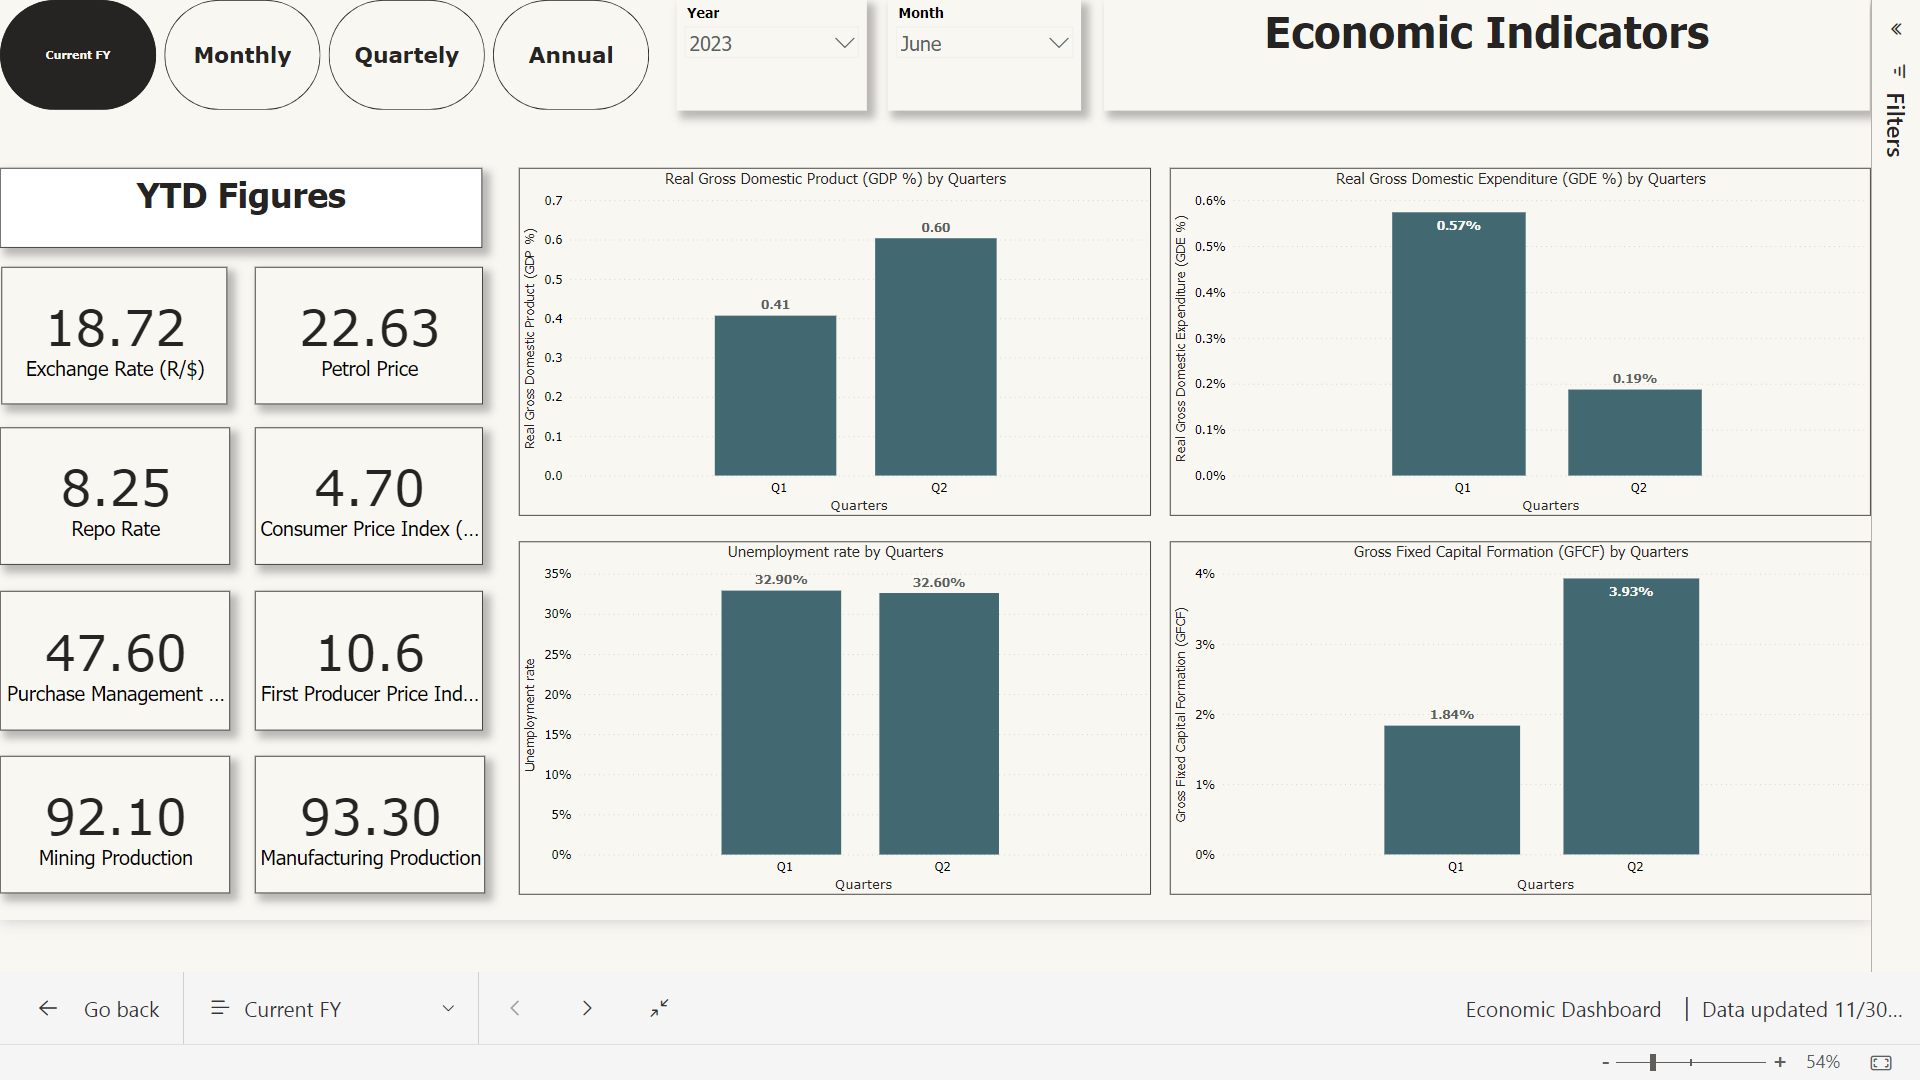

Layout of this report page (visuals, bound fields, positions):
{"tool":"powerbi","page":{"name":"Current FY","canvas":[2300,1131],"ordinal":0},"visuals":[{"type":"card","fields":{"Values":["Sum(Monthly.Exchange Rate (R/$))"]},"box":[2.7,329,277.3,168.6],"z":0},{"type":"card","fields":{"Values":["Sum(Monthly.Repo Rate)"]},"box":[0,524.7,282.7,168.6],"z":1000},{"type":"card","fields":{"Values":["Sum(Monthly.Petrol Price)"]},"box":[312.6,329,280,168.6],"z":2000},{"type":"card","fields":{"Values":["Sum(Monthly.Purchase Management Index (PMI))"]},"box":[0,725.9,282.7,171.3],"z":3000},{"type":"card","fields":{"Values":["Min(Monthly.Producer Price Index )"]},"box":[312.6,725.9,280,171.3],"z":4000},{"type":"card","fields":{"Values":["Sum(Monthly.Consumer Price Index (CPI): Inflation)"]},"box":[312.6,524.7,280,168.6],"z":5000},{"type":"card","fields":{"Values":["Sum(Monthly.Manufacturing Production)"]},"box":[312.6,929.8,282.7,168.6],"z":6000},{"type":"card","fields":{"Values":["Sum(Monthly.Mining Production)"]},"box":[0,929.8,282.7,168.6],"z":7000},{"type":"textbox","box":[0,206.6,592.7,97.9],"z":8000},{"type":"pageNavigator","box":[0,0,799.3,135.9],"z":9000},{"type":"columnChart","fields":{"Category":["Quarterly.Quarters"],"Y":["Sum(Quarterly.Real Gross Domestic Product (GDP))"]},"box":[637.8,206.9,776.8,427.4],"z":10000},{"type":"columnChart","fields":{"Y":["Sum(Quarterly.Real Gross Domestic Expenditure (GDE %))"],"Category":["Quarterly.Quarters"]},"box":[1438.3,206.9,861.7,427.4],"z":11000},{"type":"columnChart","fields":{"Category":["Quarterly.Quarters"],"Y":["Sum(Quarterly.Unemployment rate )"]},"box":[637.8,664.9,776.8,434.2],"z":12000},{"type":"columnChart","fields":{"Y":["Sum(Quarterly.Gross Fixed Capital Formation (GFCF))"],"Category":["Quarterly.Quarters"]},"box":[1438,665,862,434],"z":13000},{"type":"textbox","box":[1357.7,0,941.4,136],"z":14000},{"type":"slicer","fields":{"Values":["Monthly.Months.Variation.Date Hierarchy.Year"]},"box":[831.1,0,234.1,135.7],"z":17000},{"type":"slicer","fields":{"Values":["Monthly.Months.Variation.Date Hierarchy.Month"]},"box":[1092.3,0,237.5,135.7],"z":18000}]}

Visuals, with their boxes on the page's 2300x1131 design canvas (x1, y1, x2, y2). These are canvas units, not pixel positions in the 1920x1080 screenshot, which may show the page scaled, cropped or inside an application window:
card - Sum(Monthly.Exchange Rate (R/$)): left=3, top=329, right=280, bottom=498
card - Sum(Monthly.Repo Rate): left=0, top=525, right=283, bottom=693
card - Sum(Monthly.Petrol Price): left=313, top=329, right=593, bottom=498
card - Sum(Monthly.Purchase Management Index (PMI)): left=0, top=726, right=283, bottom=897
card - Min(Monthly.Producer Price Index ): left=313, top=726, right=593, bottom=897
card - Sum(Monthly.Consumer Price Index (CPI): Inflation): left=313, top=525, right=593, bottom=693
card - Sum(Monthly.Manufacturing Production): left=313, top=930, right=595, bottom=1098
card - Sum(Monthly.Mining Production): left=0, top=930, right=283, bottom=1098
textbox: left=0, top=207, right=593, bottom=304
pageNavigator: left=0, top=0, right=799, bottom=136
columnChart - Quarterly.Quarters x Sum(Quarterly.Real Gross Domestic Product (GDP)): left=638, top=207, right=1415, bottom=634
columnChart - Sum(Quarterly.Real Gross Domestic Expenditure (GDE %)) x Quarterly.Quarters: left=1438, top=207, right=2300, bottom=634
columnChart - Quarterly.Quarters x Sum(Quarterly.Unemployment rate ): left=638, top=665, right=1415, bottom=1099
columnChart - Sum(Quarterly.Gross Fixed Capital Formation (GFCF)) x Quarterly.Quarters: left=1438, top=665, right=2300, bottom=1099
textbox: left=1358, top=0, right=2299, bottom=136
slicer - Monthly.Months.Variation.Date Hierarchy.Year: left=831, top=0, right=1065, bottom=136
slicer - Monthly.Months.Variation.Date Hierarchy.Month: left=1092, top=0, right=1330, bottom=136
